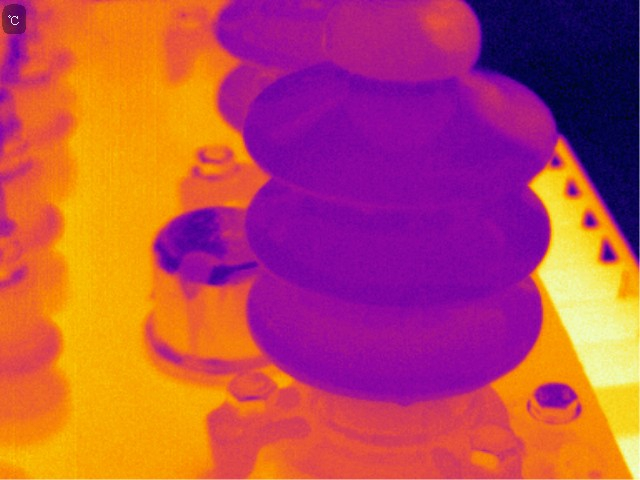Oil: (324, 2, 478, 79), (465, 78, 556, 151), (412, 3, 481, 57)
